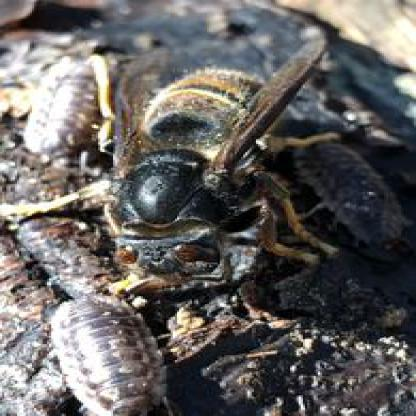Asian Hornet: (60, 47, 349, 316)
